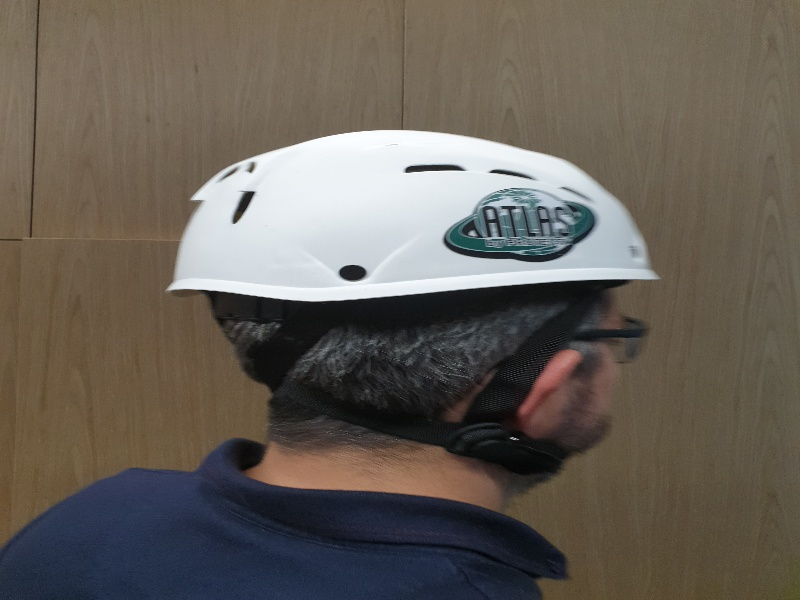Baret: (186, 139, 669, 289)
Gozluk: (566, 316, 654, 363)
